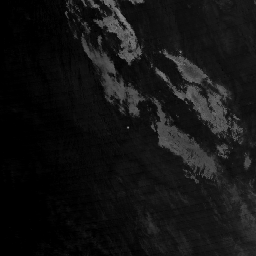Target: (125, 125, 129, 130)
